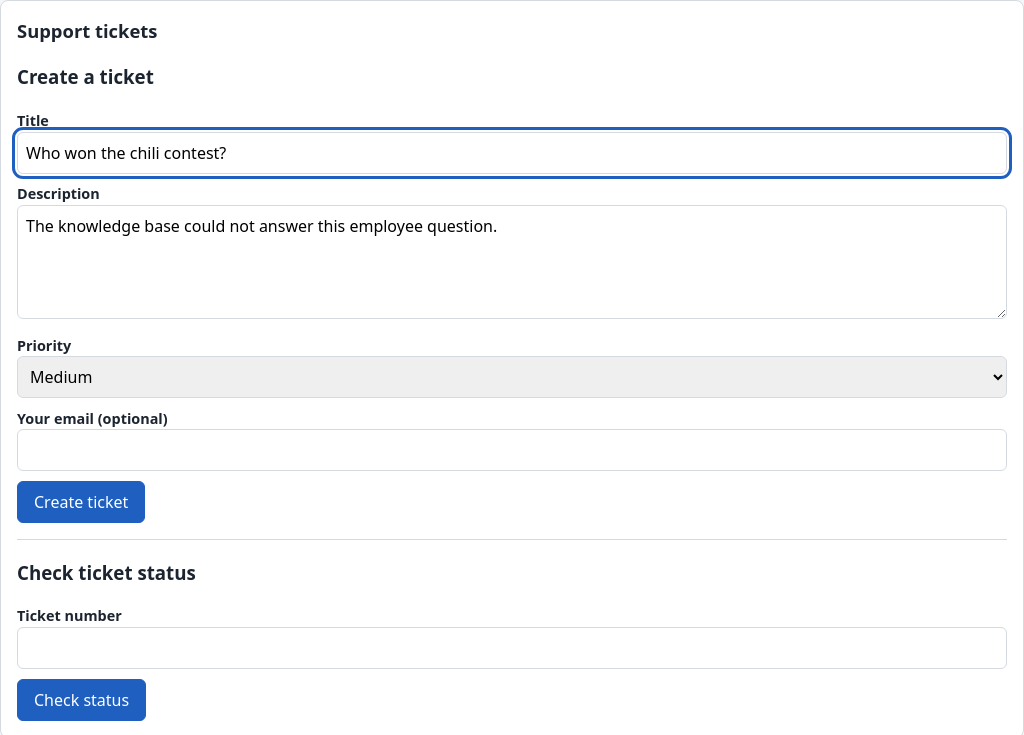
TicketPanel › shows an error when ticket creation fails
Click the button "Create ticket" at (81, 502), box [17,481,145,523]
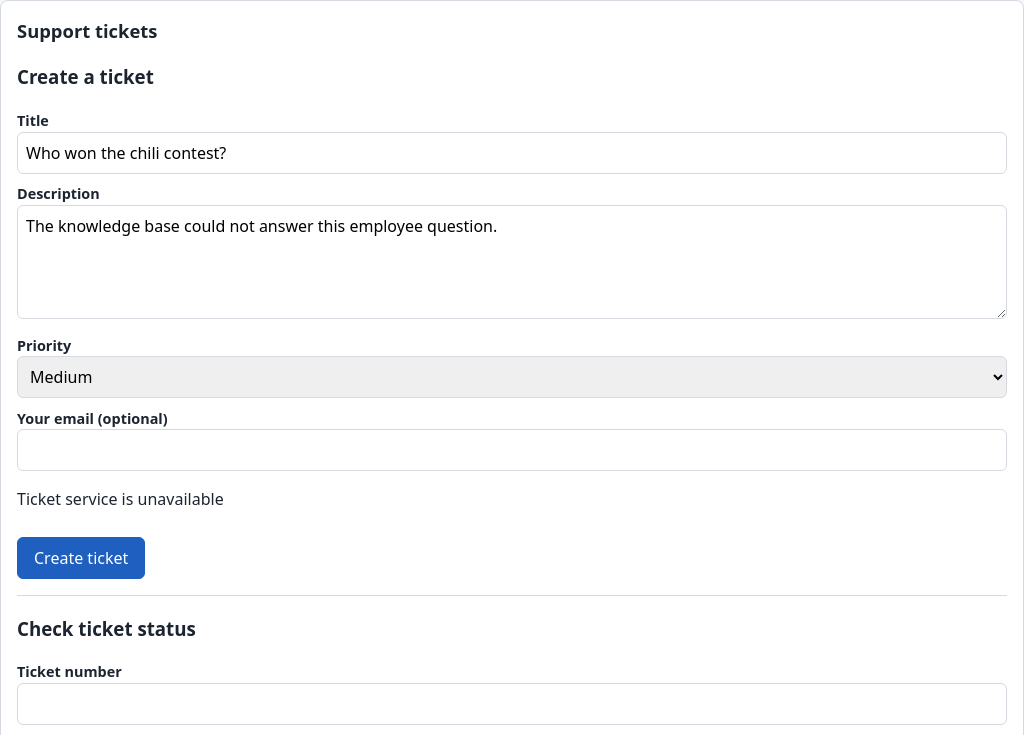
Result: the message reads "Ticket service is unavailable" at [17,488,224,510]
